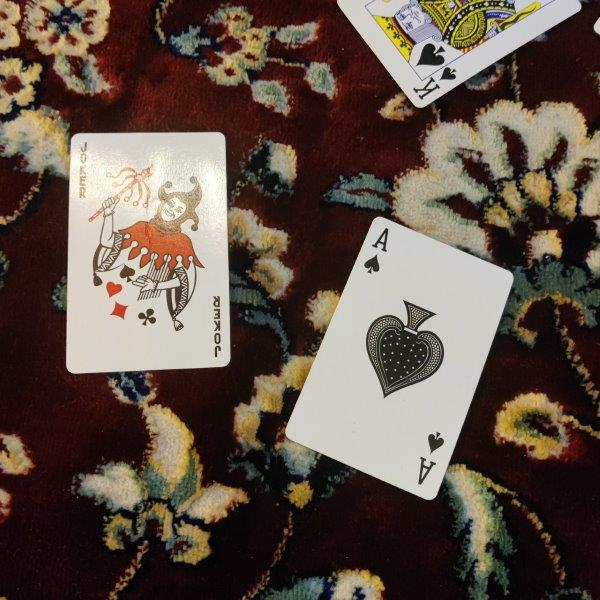Ace of Spades: (285, 216, 515, 502)
Joker: (65, 132, 232, 375)
King of Spades: (337, 1, 582, 108)
